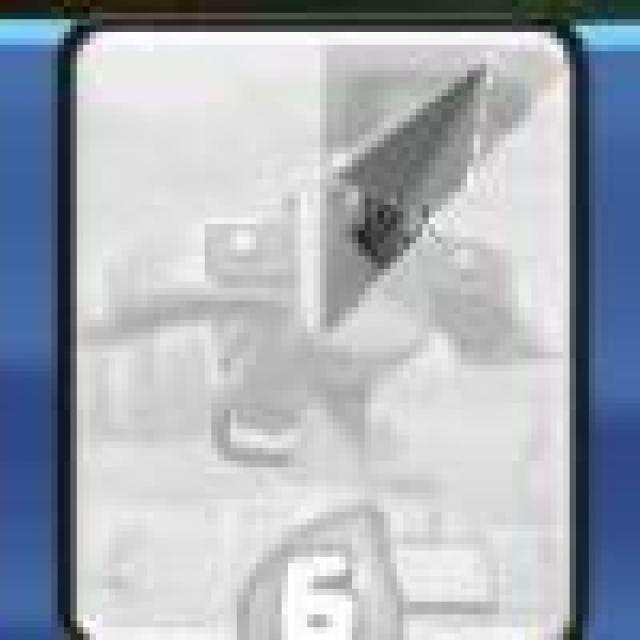X_Bow: (65, 18, 584, 640)
